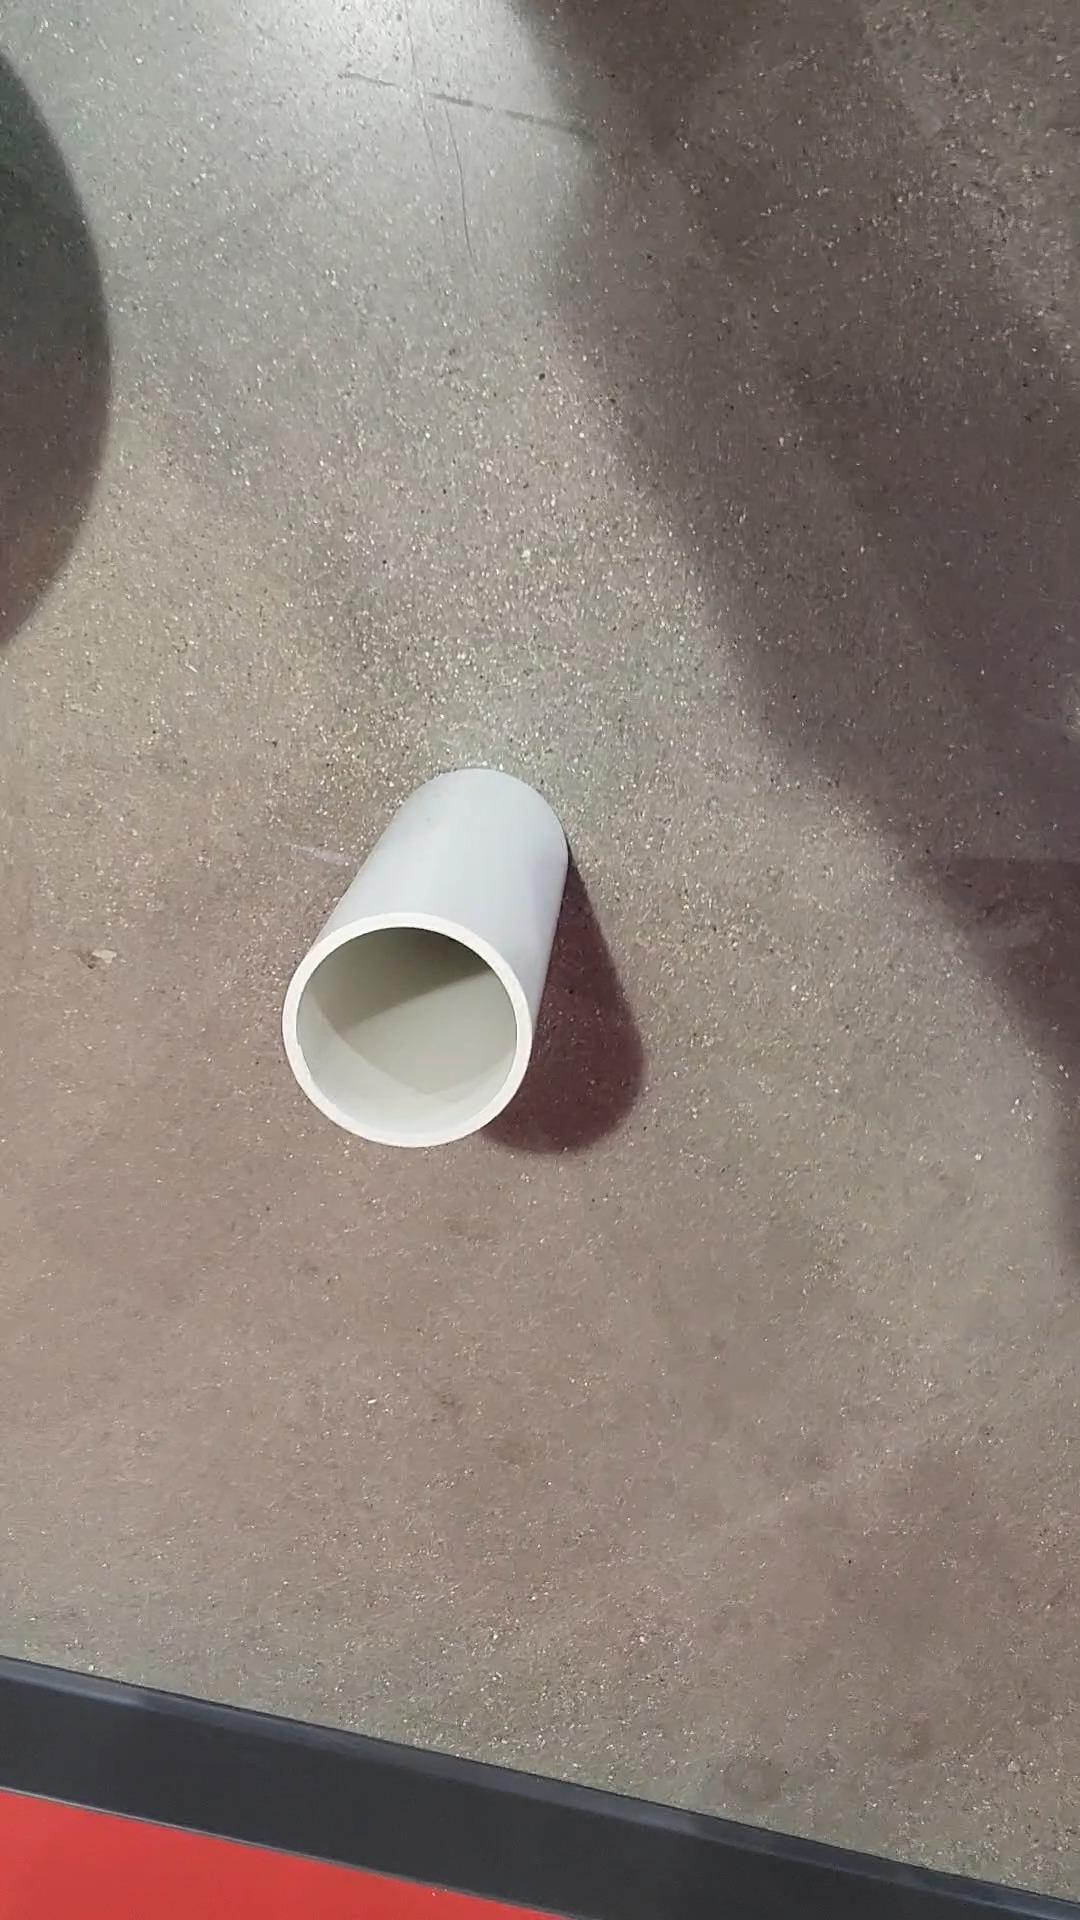coral: (280, 764, 589, 1167)
